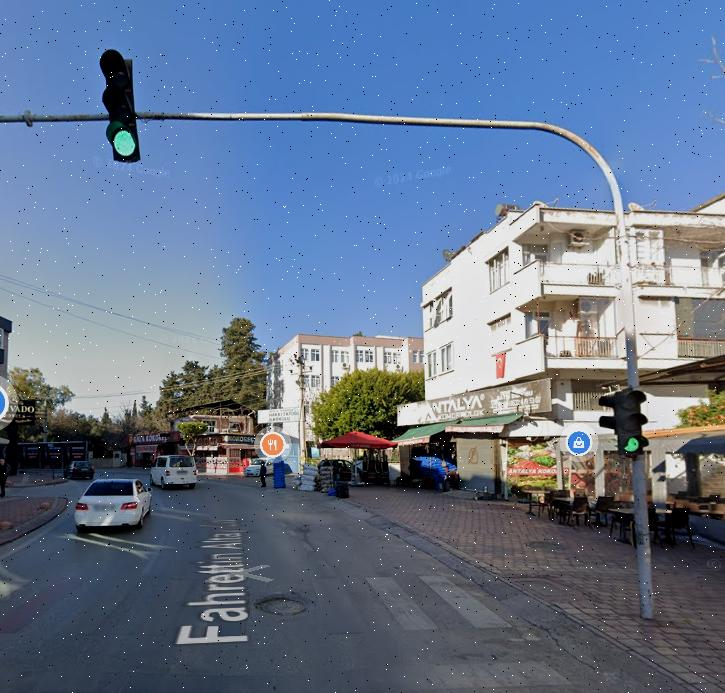greenlight: (97, 46, 144, 163), (607, 386, 648, 457)
